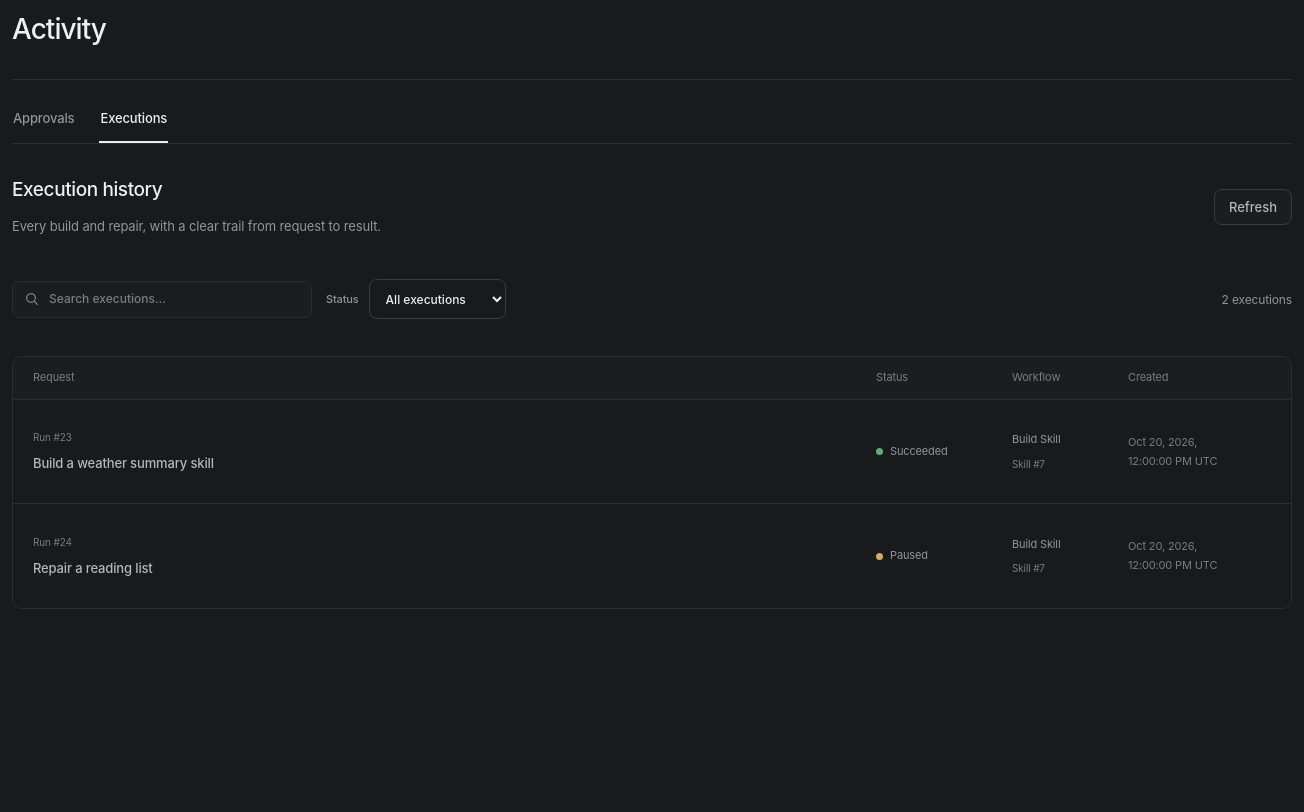
Test: Activity page › filters executions by status and request text
Check: the link "Run #24" is shown, box [33, 536, 1217, 576]
Select "Needs attention" in the dropdown named "Filter executions by status" at x=437, y=300, box [369, 280, 506, 320]
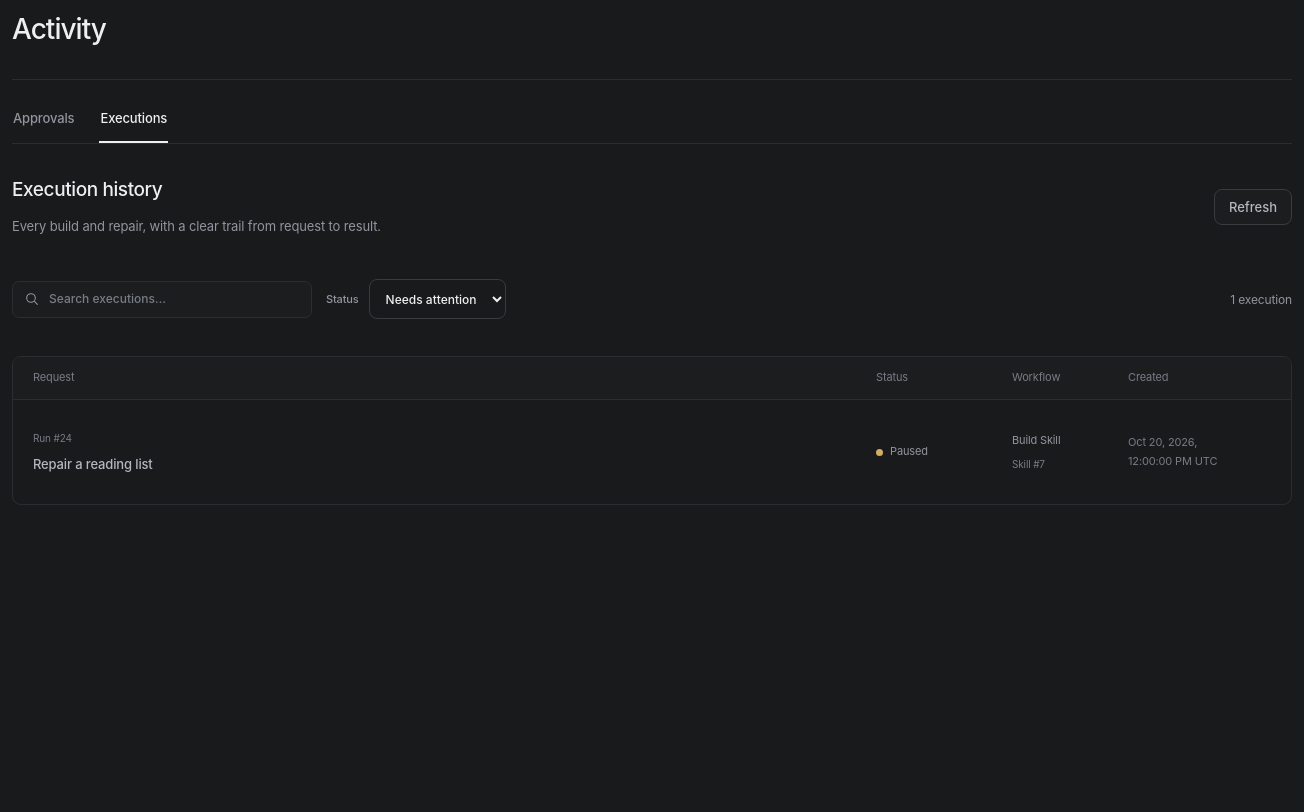
Check: the link "Run #23" is gone
Type "weather" into the field labelled "Search executions".
click(174, 300); type("weather")  # box [49, 282, 300, 317]
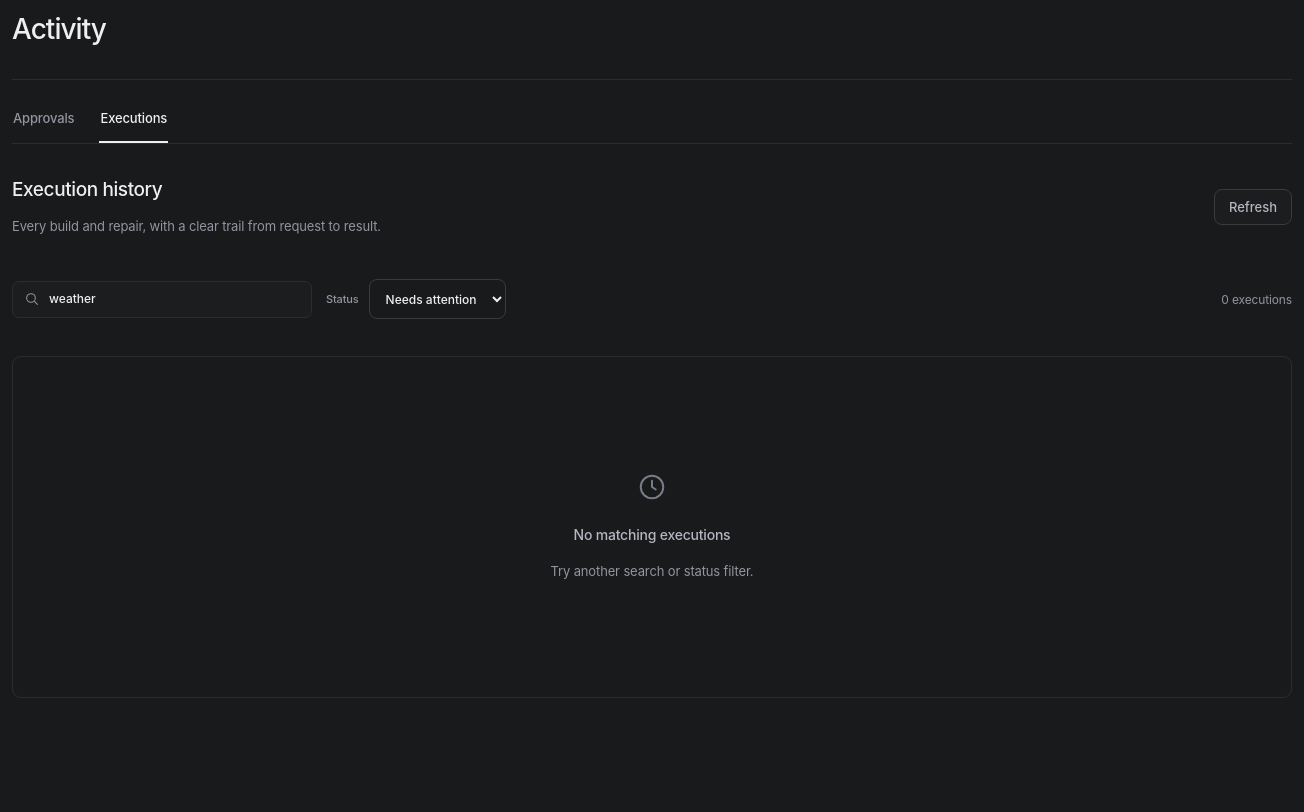
Check: the heading "No matching executions" is shown, box [574, 524, 730, 545]
Select "All executions" in the dropdown named "Filter executions by status" at x=437, y=300, box [369, 280, 506, 320]
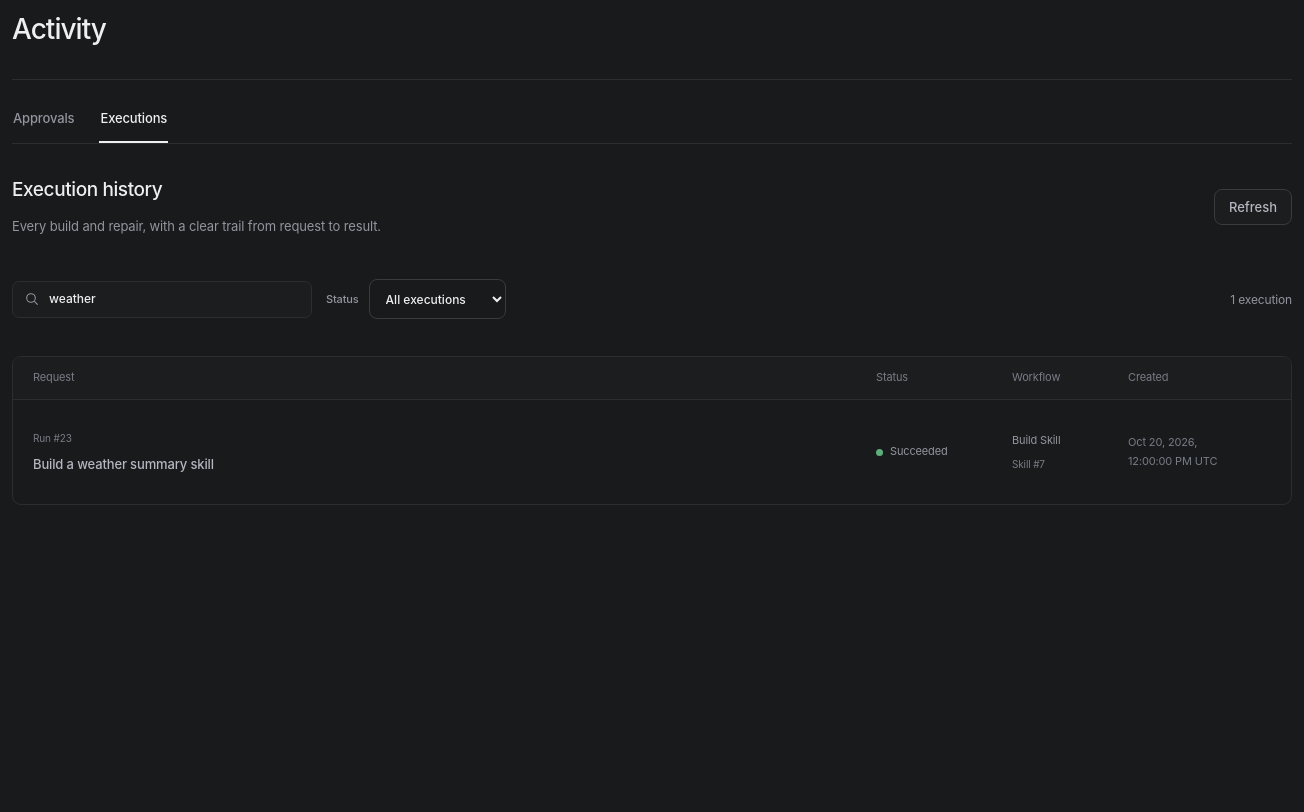
Check: the link "Run #23" is shown, box [33, 432, 1217, 472]
